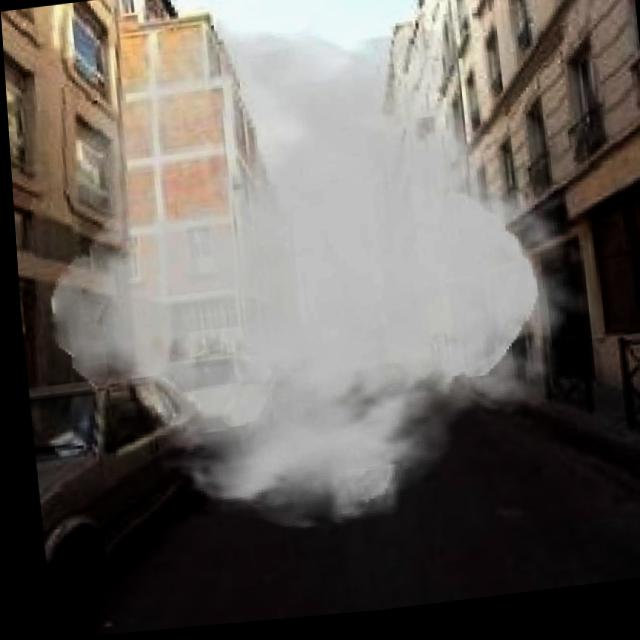no_helmet: (20, 0, 605, 564)
